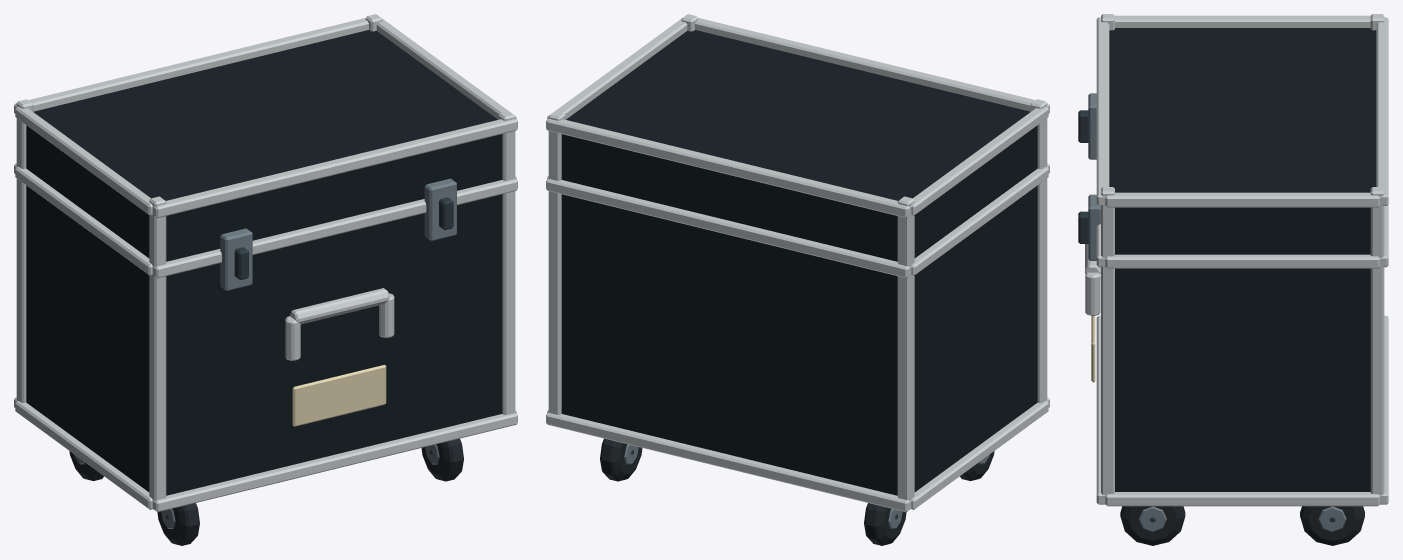
The model's file is b20_wheeled_audio_flight_case.glb.
3 views of the same model, side by side, from view 1: azimuth 30°, elevation 25°; view 2: azimuth 150°, elevation 25°; view 3: azimuth 270°, elevation 25° (orthographic).
Visible parts, largest first — view 1: b20_wheeled_audio_flight_case; view 2: b20_wheeled_audio_flight_case; view 3: b20_wheeled_audio_flight_case.
Boxes of the visible parts, <box> form: b20_wheeled_audio_flight_case: <box>14,14,517,545</box>; b20_wheeled_audio_flight_case: <box>546,14,1049,545</box>; b20_wheeled_audio_flight_case: <box>1078,14,1388,545</box>.
Size of the model in its own units: 0.865 by 0.831 by 0.622.
